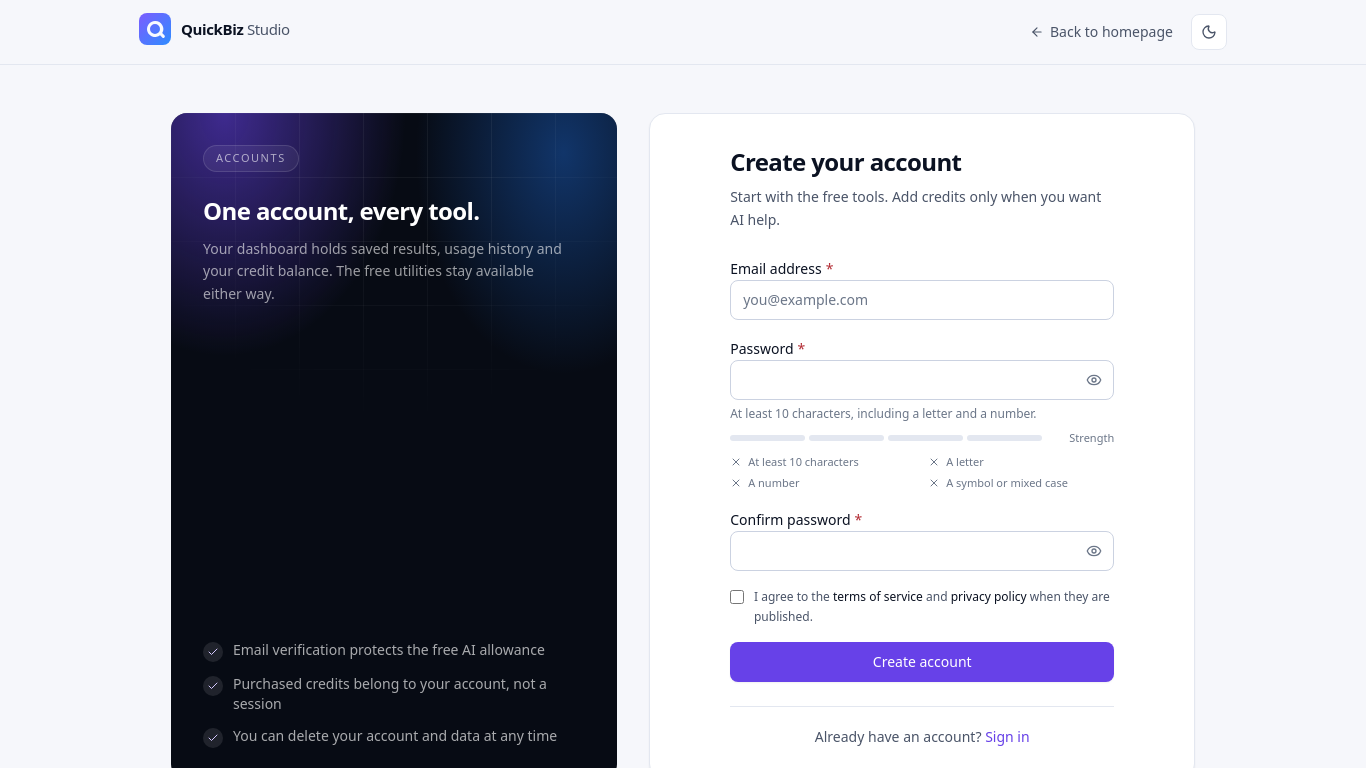
RegisterPage › reports mismatched passwords on the confirmation field
The width and height of the screenshot is (1366, 768).
Type "ada@example.com" into the field labelled "Email address*".
click(922, 300); type("ada@example.com")  # box [730, 280, 1114, 320]
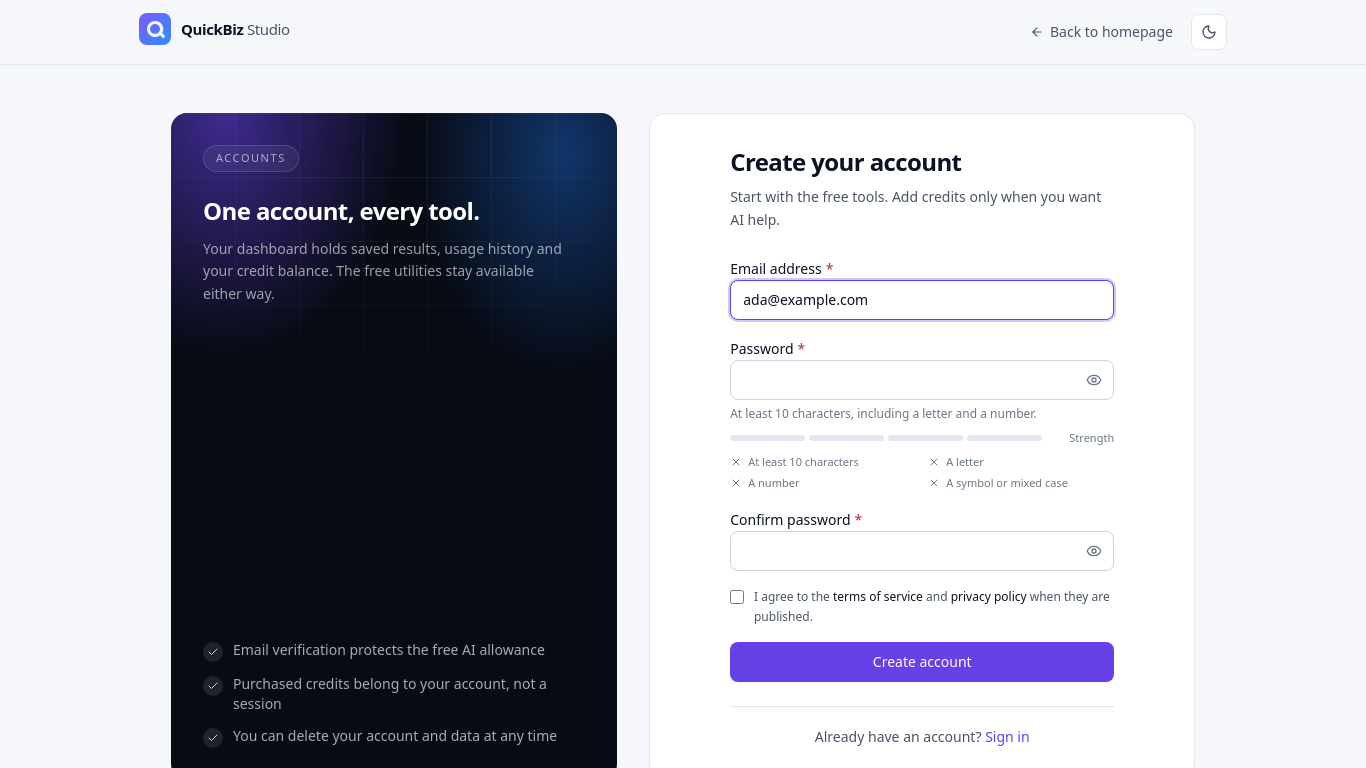
Type "correct-horse-1" into the password field labelled "Password*".
click(922, 380); type("correct-horse-1")  # box [730, 360, 1114, 400]
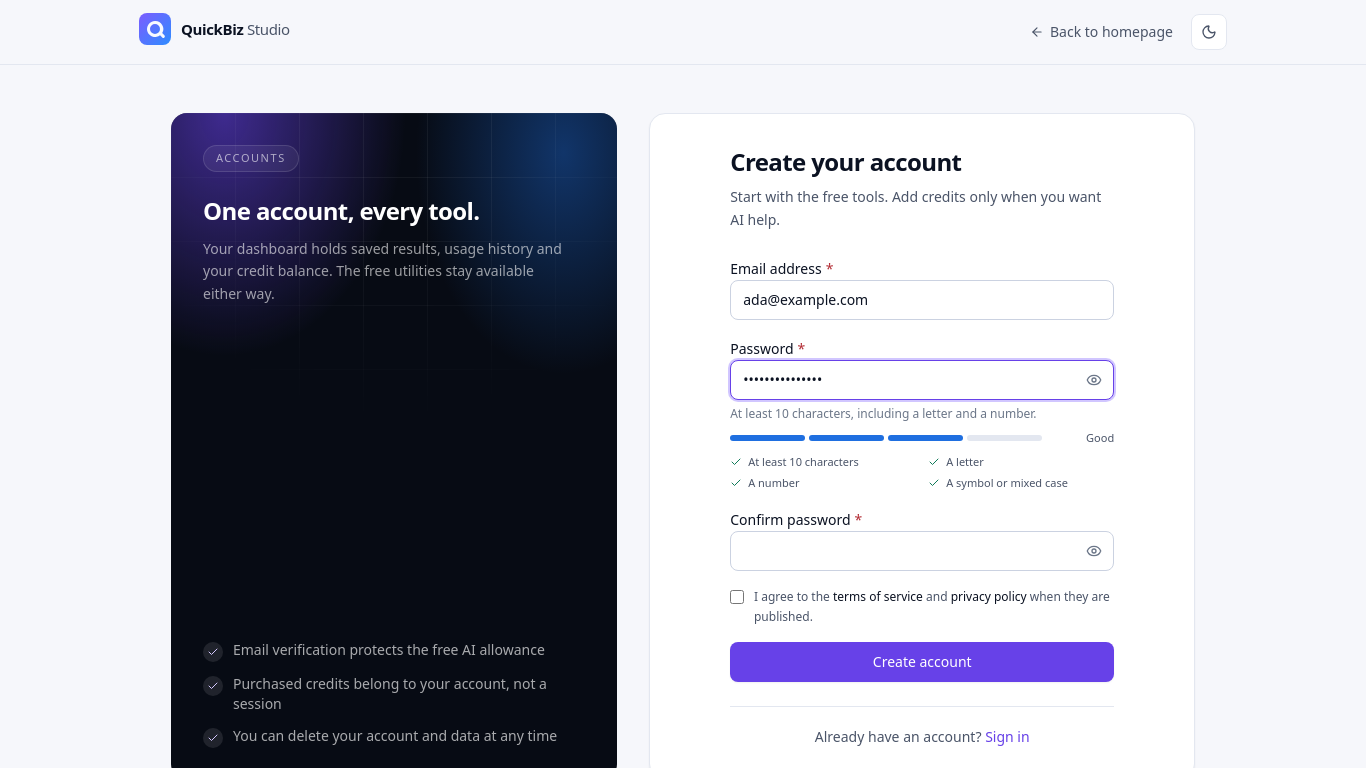
Type "different-horse-1" into the password field labelled "Confirm password*".
click(922, 551); type("different-horse-1")  # box [730, 531, 1114, 571]
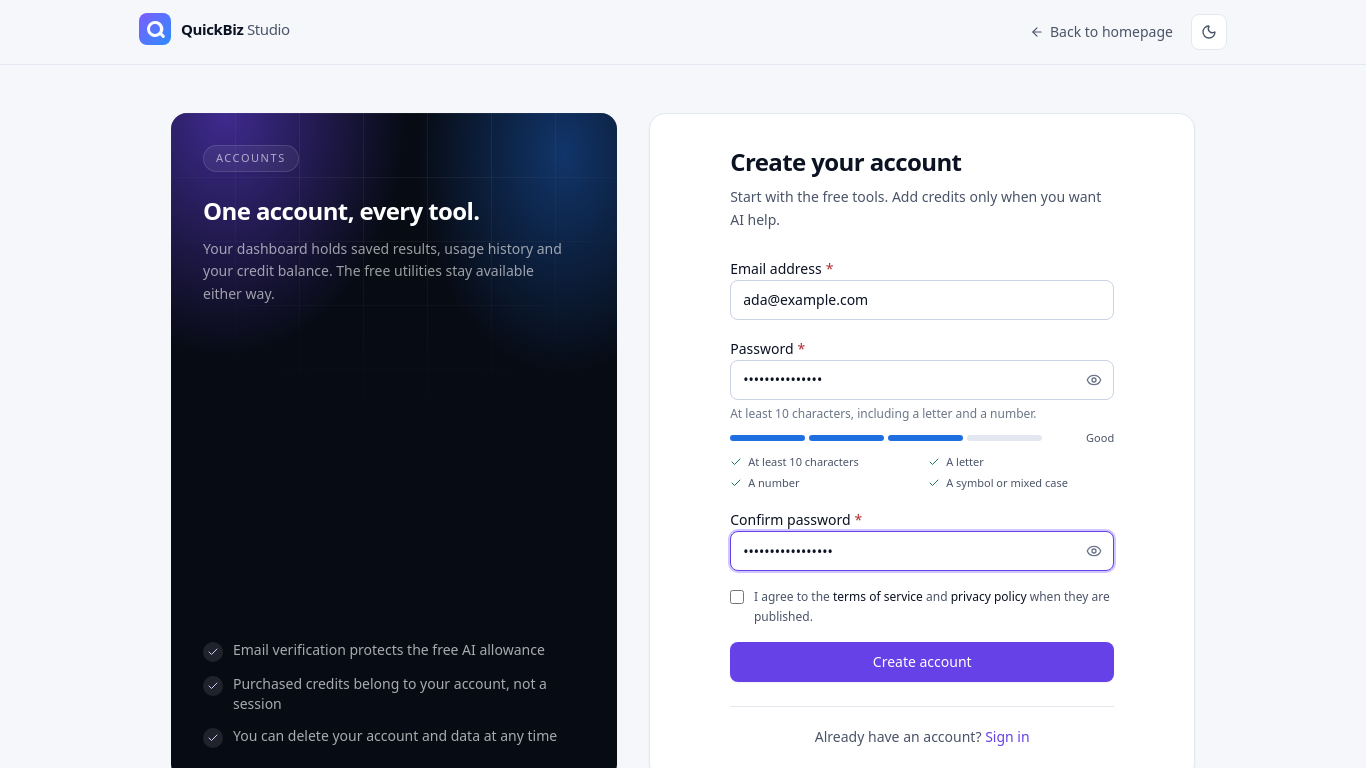
Click the checkbox.
click(737, 597)  # box [730, 589, 744, 605]
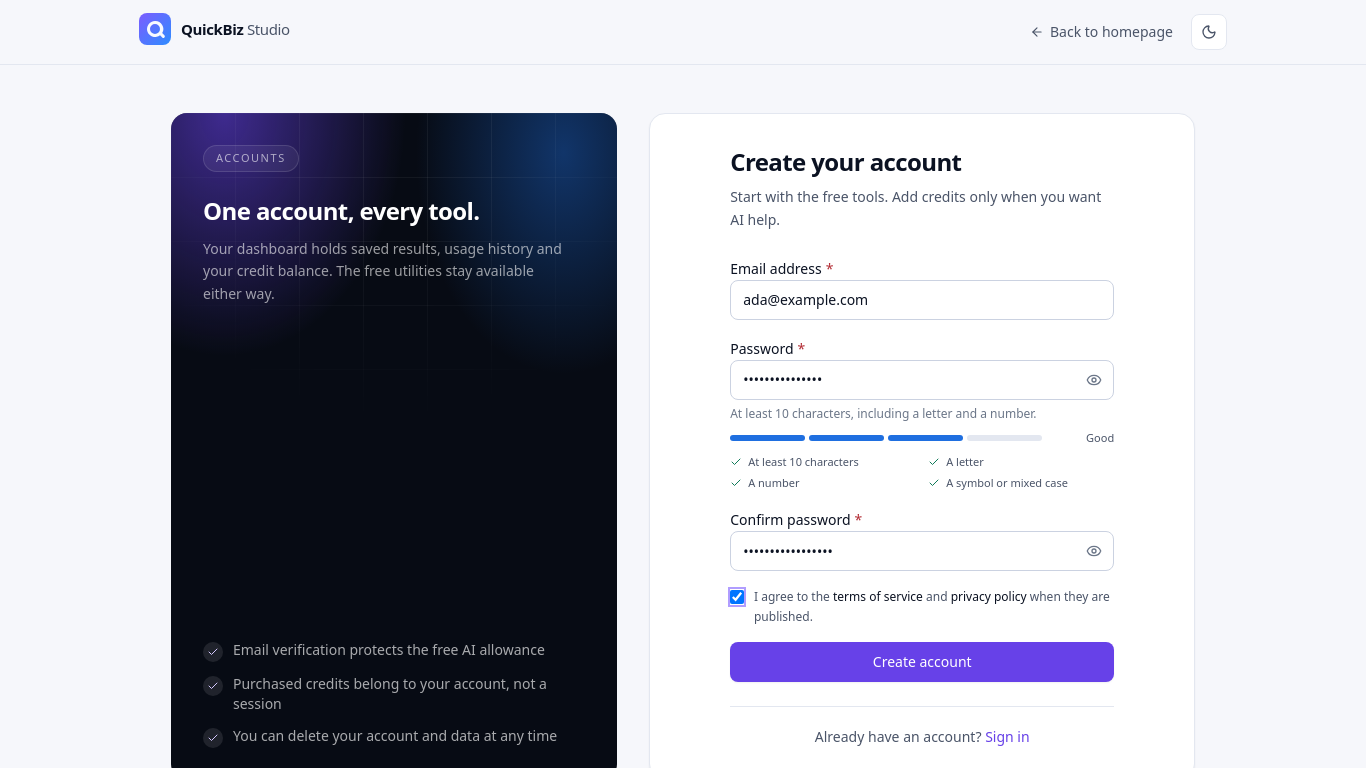
Click the button "Create account".
click(922, 662)  # box [730, 642, 1114, 682]
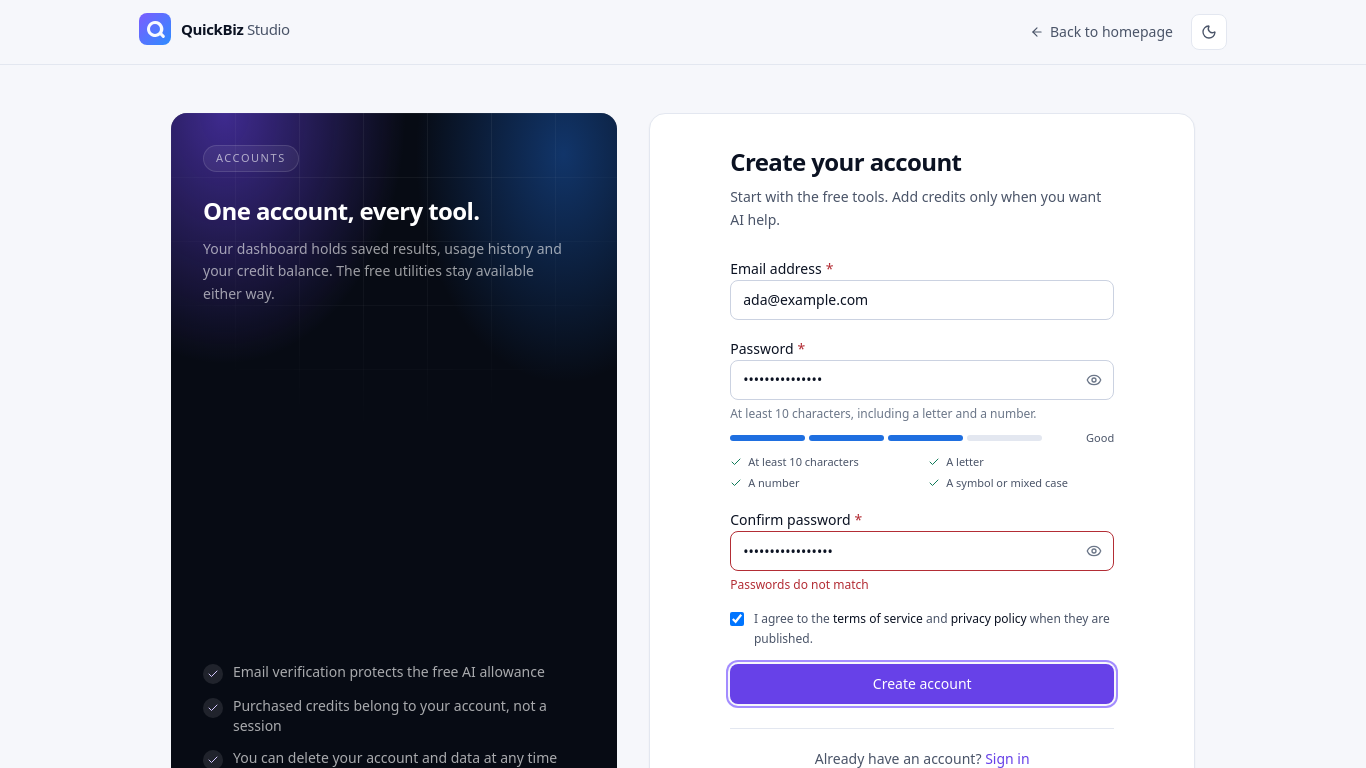
Expected: the text "Passwords do not match" is shown, [730, 576, 869, 593]
